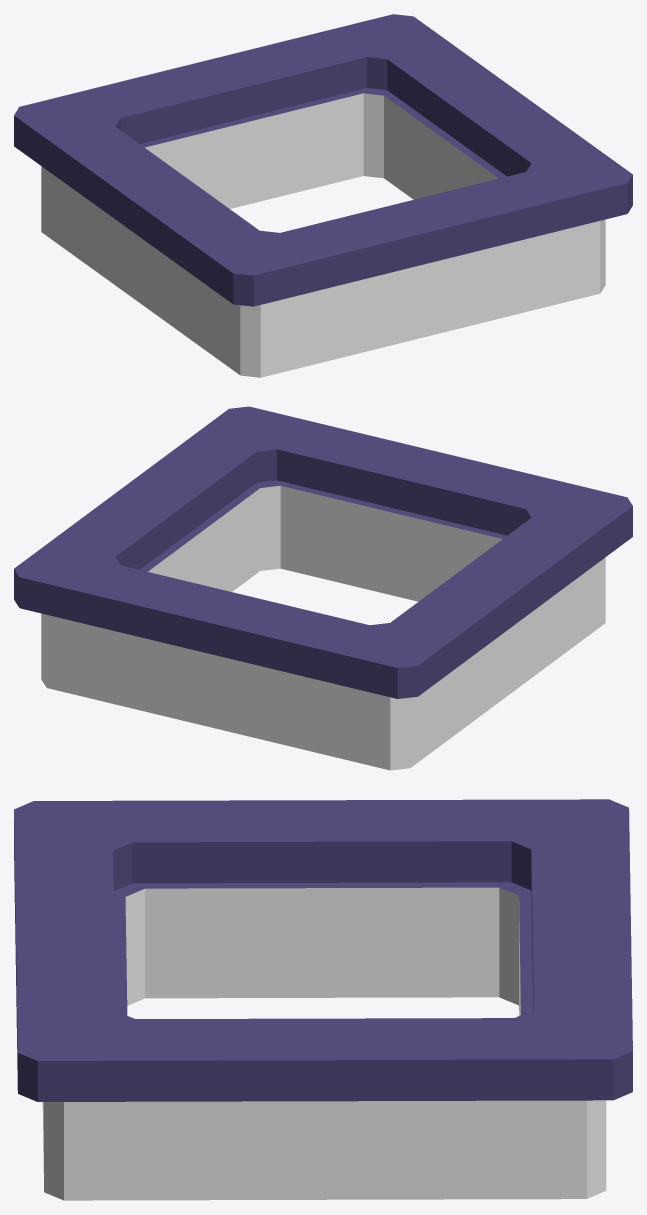
File: RBin2.fbx
3 views of the same model, one above another, from view 1: azimuth 30°, elevation 25°; view 2: azimuth 150°, elevation 25°; view 3: azimuth 270°, elevation 25° (orthographic). The views are drawn at different scales.
Visible parts, largest first — view 1: pPipe2; view 2: pPipe2; view 3: pPipe2.
Boxes of the visible parts, bbox=[...] form: pPipe2: bbox=[14, 14, 632, 377]; pPipe2: bbox=[14, 406, 632, 770]; pPipe2: bbox=[14, 799, 632, 1200].
Bounding box in the file's own units: 49.2 × 13.23 × 49.2.
